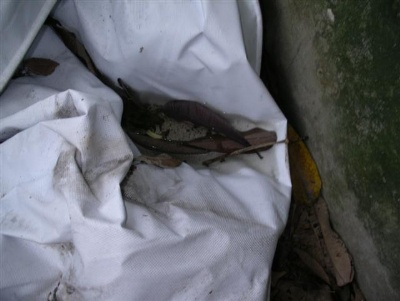plastic_bag: (1, 3, 294, 301)
